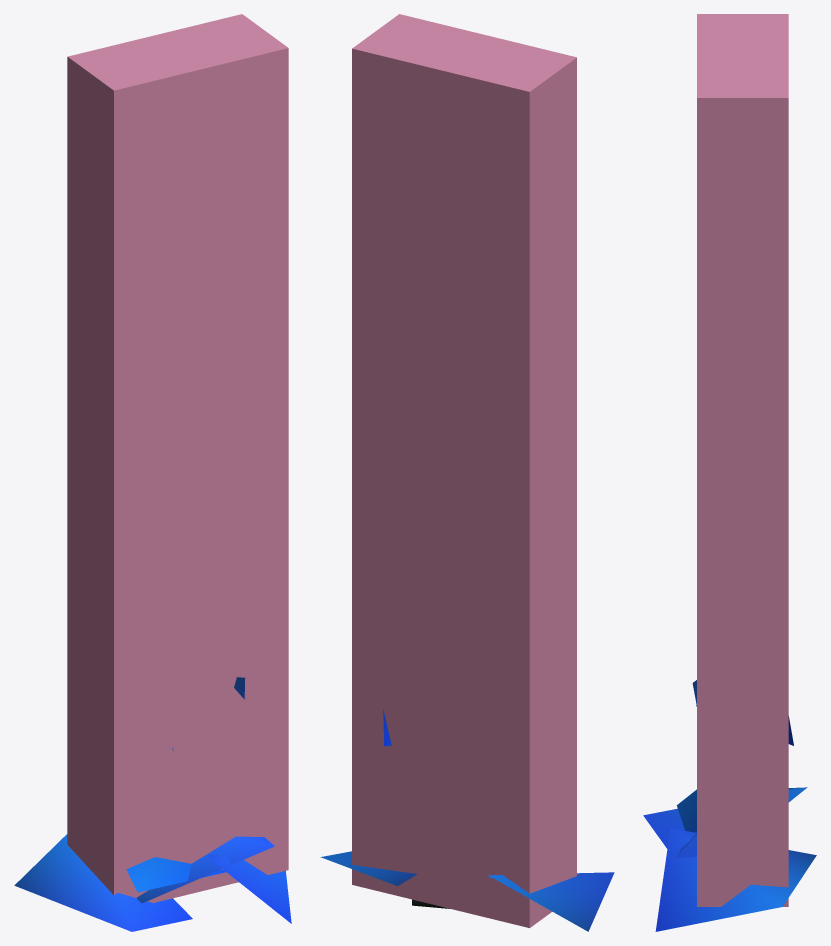
The model's file is vine_wall_small.dae.
3 renders of one model, left to right at view 1: azimuth 30°, elevation 25°; view 2: azimuth 150°, elevation 25°; view 3: azimuth 270°, elevation 25°, orthographic. The views are drawn at different scales.
Parts seen in each view (by area): view 1: Untitled, tree_oak_bush_a110, tree_oak_bush_a190; view 2: Untitled, tree_oak_bush_a110; view 3: Untitled, tree_oak_bush_a110, tree_oak_bush_a190.
Part boxes in pixels (x1,y1,x2,y2): Untitled: (67, 14, 288, 902); tree_oak_bush_a110: (14, 834, 291, 931); tree_oak_bush_a190: (126, 677, 274, 903); Untitled: (352, 14, 576, 928); tree_oak_bush_a110: (320, 851, 614, 931); Untitled: (697, 14, 788, 906); tree_oak_bush_a110: (643, 787, 816, 931); tree_oak_bush_a190: (676, 680, 793, 858).
Bounding box in the file's own units: 0.7323 × 0.4237 × 2.27.
